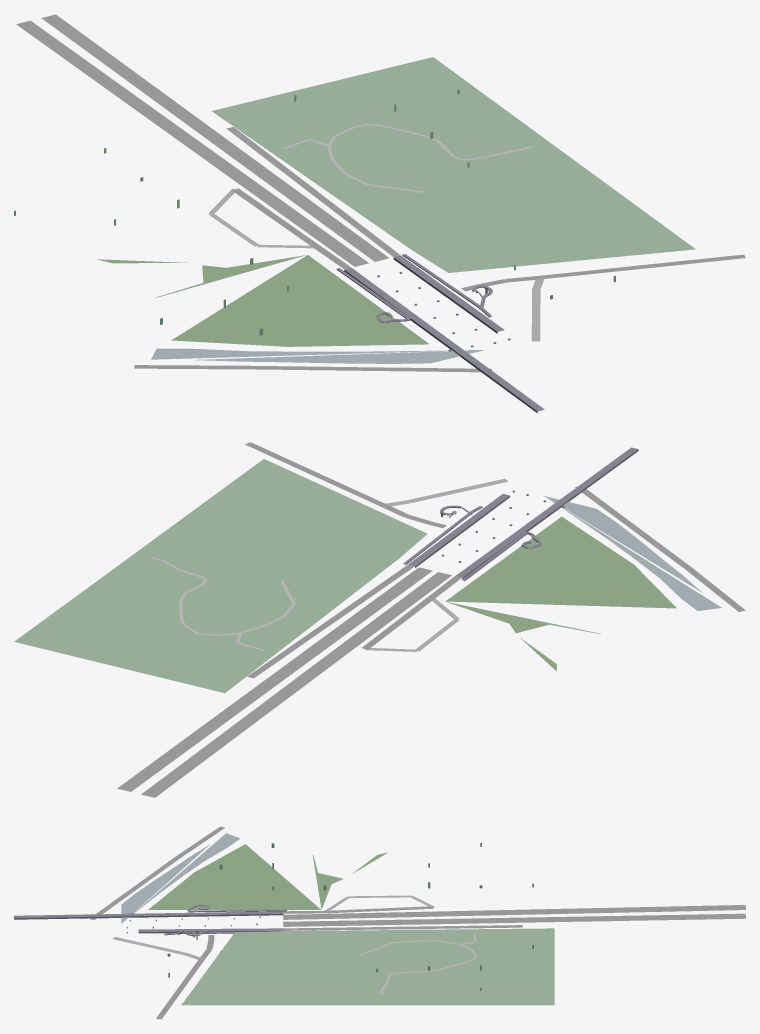
3 views of the same model, one above another, from view 1: azimuth 30°, elevation 25°; view 2: azimuth 150°, elevation 25°; view 3: azimuth 270°, elevation 25° (orthographic). The views are drawn at different scales.
Size of the model in its own units: 538 by 20.83 by 845.
